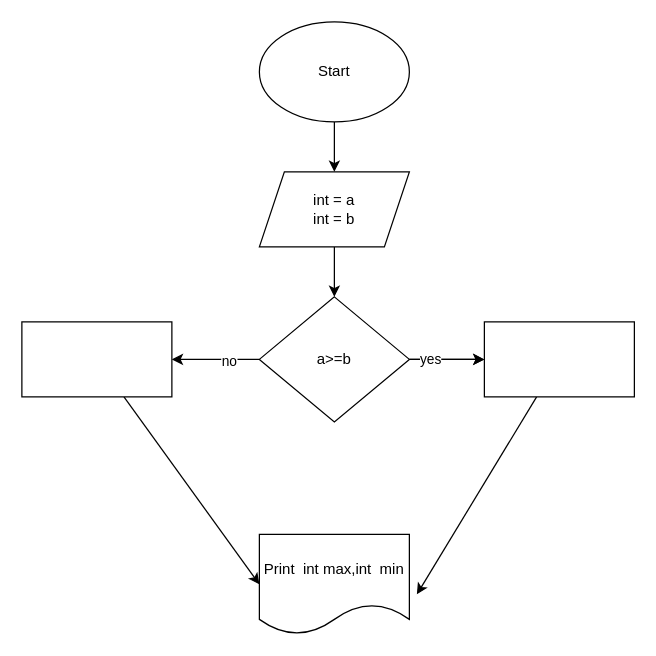
The diagram is 656 pixels wide and 656 high, and some of its shapes have lost their labels. Here are the shapes that lost their labels. From the top down, the centre of each, then its label:
point (96, 359): b=max a=min
point (558, 359): a=max b=min a=b
